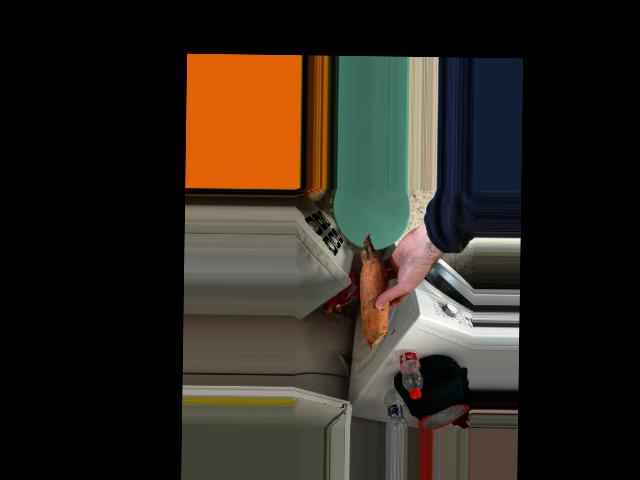sweet_potato: (357, 232, 397, 339)
